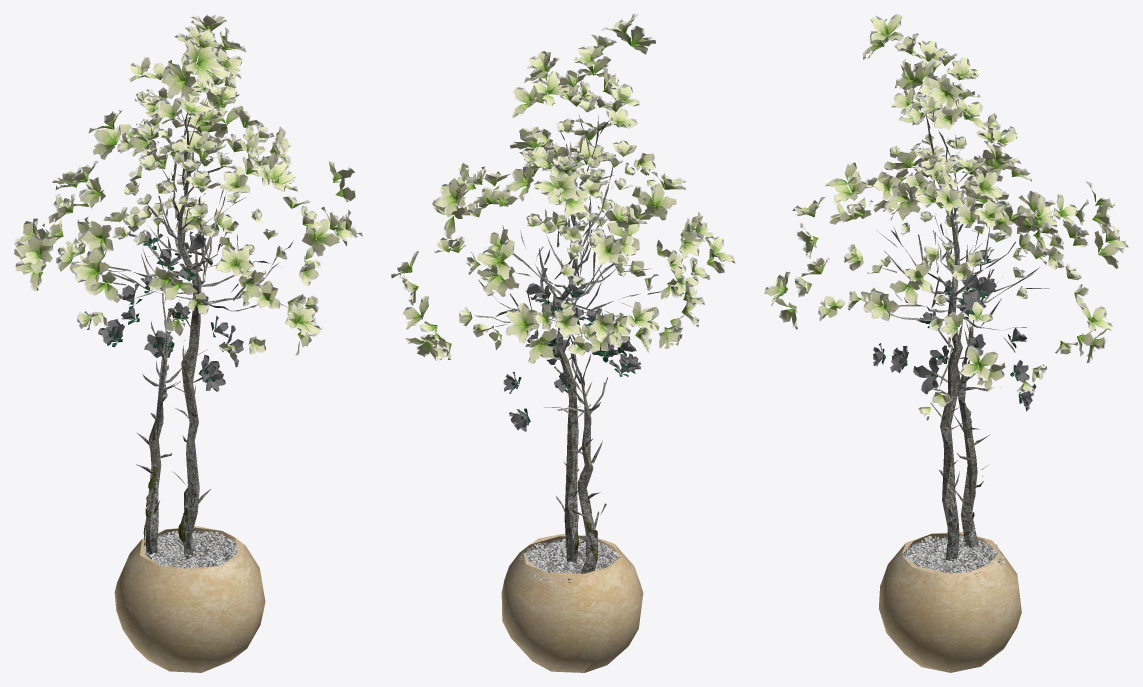
File: plant_3.glb
3 views of the same model, side by side, from view 1: azimuth 30°, elevation 25°; view 2: azimuth 150°, elevation 25°; view 3: azimuth 270°, elevation 25° (orthographic). The views are drawn at different scales.
Parts seen in each view (by area): view 1: Plants_VOL01_03; view 2: Plants_VOL01_03; view 3: Plants_VOL01_03.
Boxes of the visible parts, x1,y1,x2,y2 form: Plants_VOL01_03: [14, 14, 362, 672]; Plants_VOL01_03: [391, 14, 735, 672]; Plants_VOL01_03: [764, 14, 1128, 672].
Bounding box in the file's own units: 0.8746 × 1.68 × 0.8869.
Materials: 7 (5 with a texture image).
